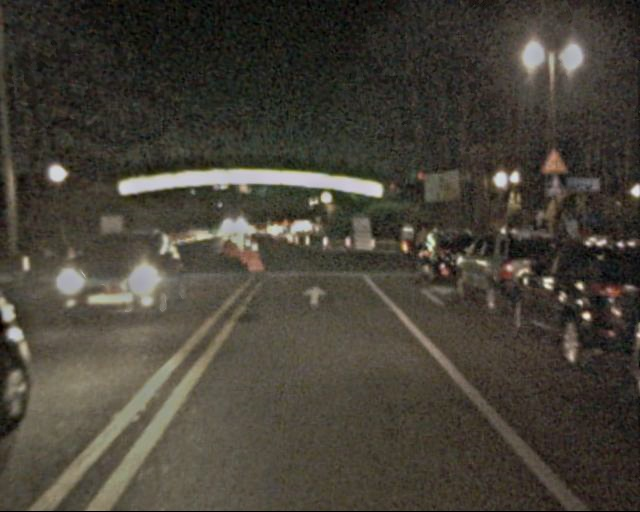person: (416, 227, 434, 271), (400, 221, 418, 264)
